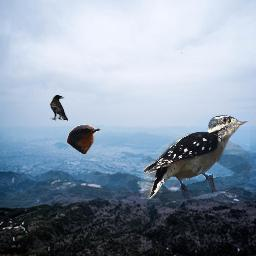Crow: (50, 95, 68, 121)
Swallow: (66, 124, 101, 154)
Woodpecker: (141, 114, 250, 199)
